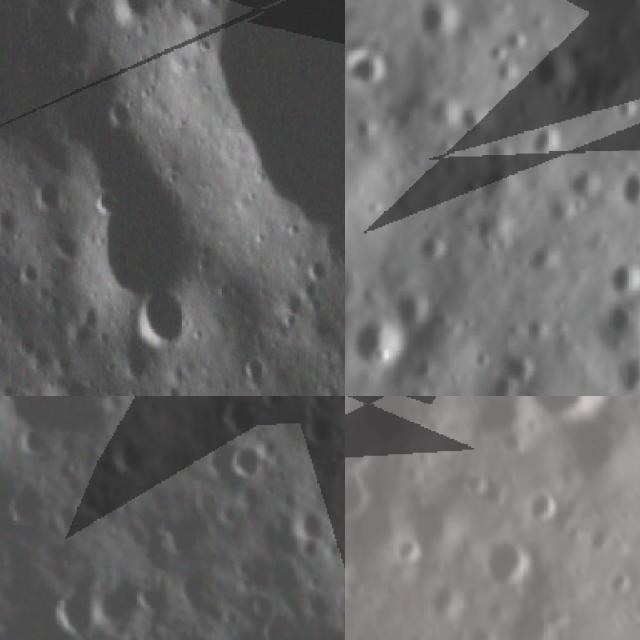crater: (192, 0, 345, 256), (70, 174, 227, 324), (0, 0, 129, 182), (0, 396, 120, 453), (123, 284, 205, 359), (480, 346, 556, 396), (479, 534, 542, 593), (0, 470, 56, 536), (46, 576, 98, 640), (520, 396, 614, 431), (528, 42, 584, 100), (354, 317, 409, 373), (411, 0, 471, 51), (296, 402, 345, 456), (345, 465, 379, 534), (597, 255, 640, 306), (227, 439, 274, 485), (284, 498, 329, 546), (211, 396, 262, 438), (31, 174, 74, 221), (564, 171, 608, 215), (390, 291, 433, 333), (411, 230, 452, 274), (601, 82, 640, 128), (133, 578, 175, 618), (455, 99, 494, 142), (384, 530, 426, 568), (522, 124, 566, 160), (361, 42, 397, 85), (518, 485, 560, 520), (607, 353, 640, 396), (7, 318, 42, 358), (454, 461, 488, 501), (51, 225, 80, 268), (304, 255, 336, 293), (496, 18, 529, 54), (616, 167, 640, 216), (238, 350, 268, 387), (278, 286, 308, 323), (0, 201, 25, 244), (494, 63, 526, 96), (110, 0, 149, 26), (258, 396, 298, 418), (536, 0, 589, 15), (488, 40, 512, 60)
